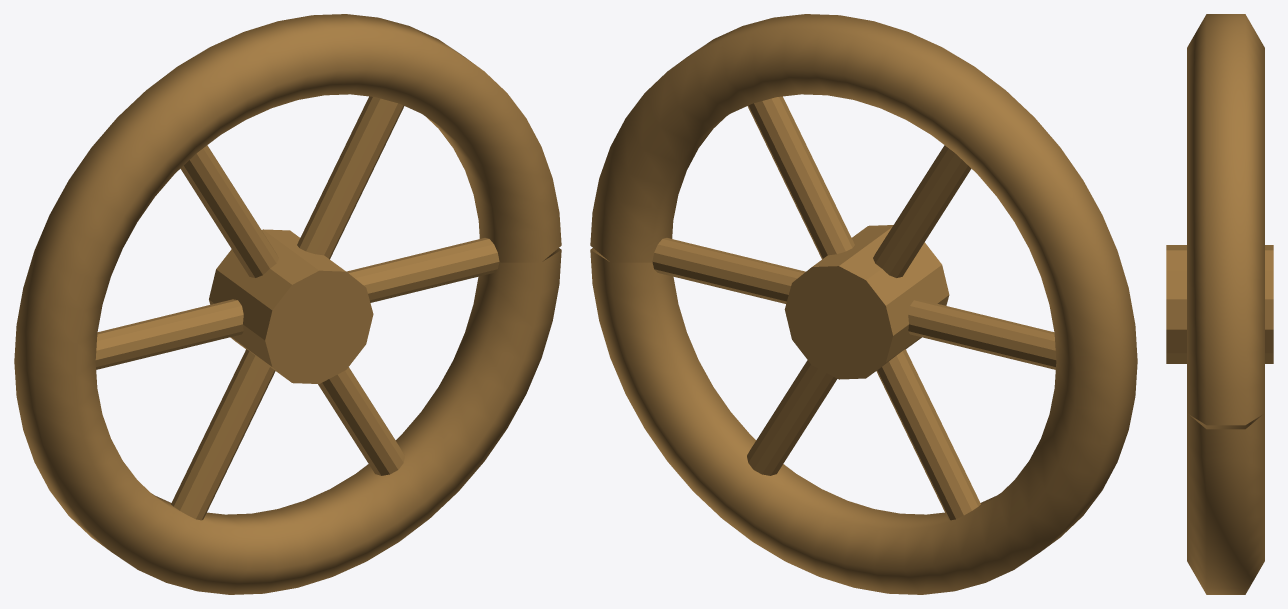
File: foundry-wheel-v01.glb
The picture shows the model from 3 angles, left to right: view 1: azimuth 30°, elevation 25°; view 2: azimuth 150°, elevation 25°; view 3: azimuth 270°, elevation 25°; orthographic projection. The views are drawn at different scales.
Visible parts, largest first — view 1: Foundry Bronze • forged warm; view 2: Foundry Bronze • forged warm; view 3: Foundry Bronze • forged warm.
Boxes of the visible parts, x1,y1,x2,y2 form: Foundry Bronze • forged warm: [14, 14, 561, 594]; Foundry Bronze • forged warm: [590, 14, 1137, 594]; Foundry Bronze • forged warm: [1166, 14, 1273, 594].
Bounding box in the file's own units: 0.9725 × 0.9726 × 0.18.
